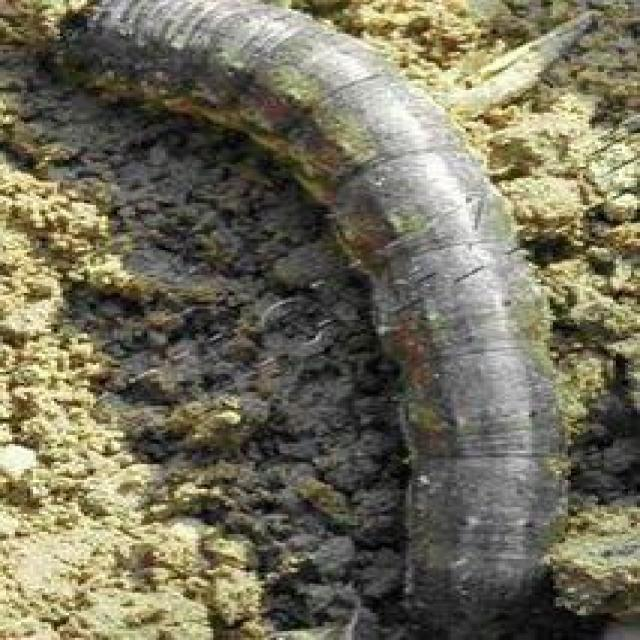black cutworm: (54, 1, 604, 634)
